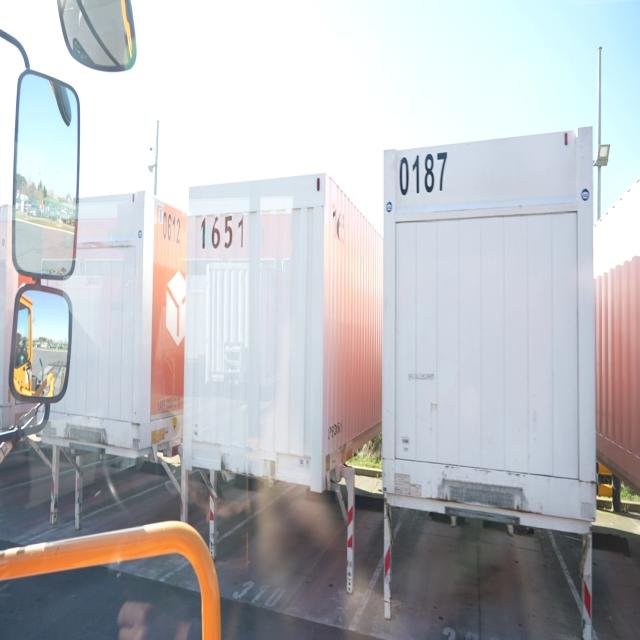Code: (399, 143, 448, 198), (198, 212, 246, 256), (160, 213, 180, 246)
